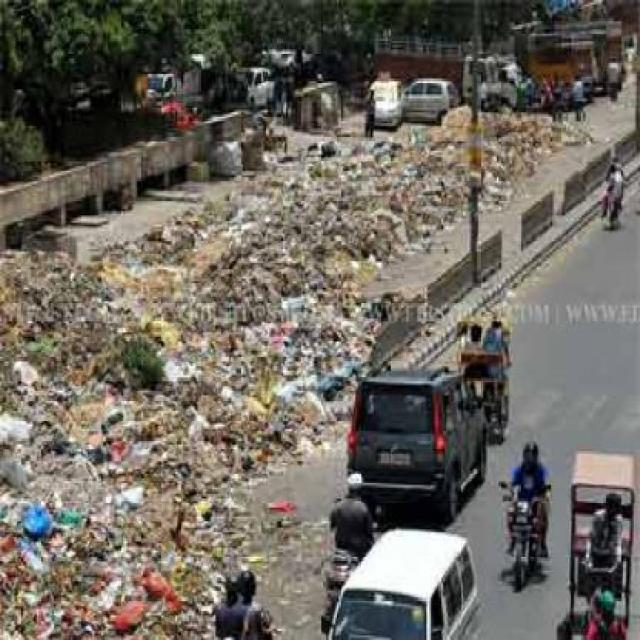garbage: (11, 254, 181, 630), (155, 194, 344, 446), (330, 107, 549, 226)
